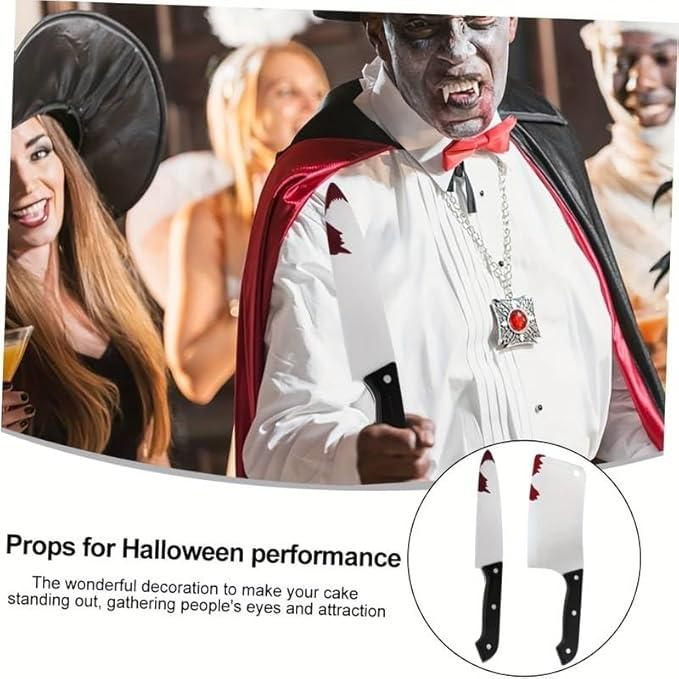Knife: (230, 5, 663, 491), (133, 25, 331, 393), (0, 95, 185, 475), (570, 10, 679, 311), (473, 447, 590, 669), (313, 181, 410, 431), (354, 412, 440, 490)
